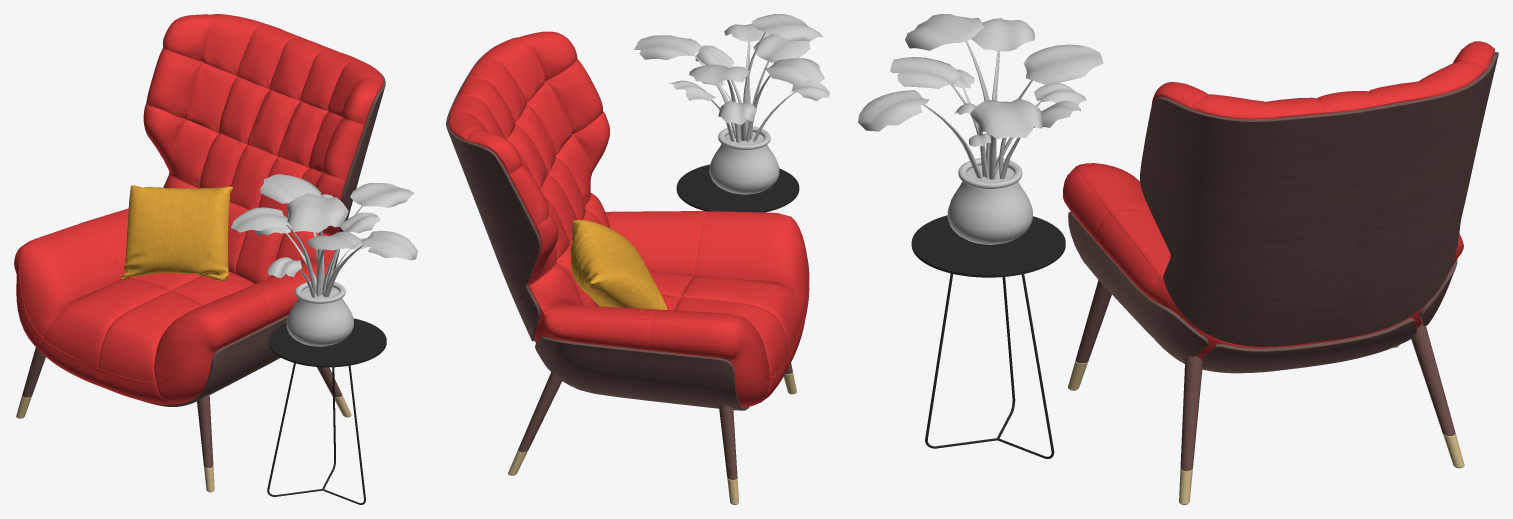
File: sofa.gltf
3 renders of one model, left to right at view 1: azimuth 30°, elevation 25°; view 2: azimuth 150°, elevation 25°; view 3: azimuth 270°, elevation 25°, orthographic. The views are drawn at different scales.
Parts seen in each view (by area): view 1: Seat, Green plant monstera, Pillow, Coffee Table, Plywood, Wood part, Gold piece; view 2: Seat, Plywood, Green plant monstera, Pillow, Coffee Table, Wood part, Gold piece; view 3: Plywood, Green plant monstera, Seat, Coffee Table, Wood part, Gold piece.
Part boxes in pixels (left/top/right/bottom): Seat: left=14, top=14, right=383, bottom=404; Green plant monstera: left=231, top=174, right=417, bottom=346; Pillow: left=121, top=185, right=232, bottom=281; Coffee Table: left=267, top=318, right=386, bottom=504; Plywood: left=141, top=47, right=385, bottom=406; Wood part: left=22, top=347, right=342, bottom=467; Gold piece: left=16, top=395, right=351, bottom=491; Seat: left=448, top=31, right=809, bottom=407; Plywood: left=446, top=55, right=749, bottom=410; Green plant monstera: left=634, top=14, right=829, bottom=194; Pillow: left=570, top=220, right=666, bottom=309; Coffee Table: left=676, top=164, right=799, bottom=212; Wood part: left=518, top=363, right=792, bottom=479; Gold piece: left=508, top=372, right=796, bottom=504; Plywood: left=1068, top=52, right=1498, bottom=373; Green plant monstera: left=858, top=14, right=1103, bottom=244; Seat: left=1062, top=41, right=1494, bottom=363; Coffee Table: left=911, top=215, right=1065, bottom=458; Wood part: left=1075, top=280, right=1455, bottom=471; Gold piece: left=1068, top=345, right=1464, bottom=504.
Size of the model in its own units: 0.4436 by 0.4479 by 0.608.
